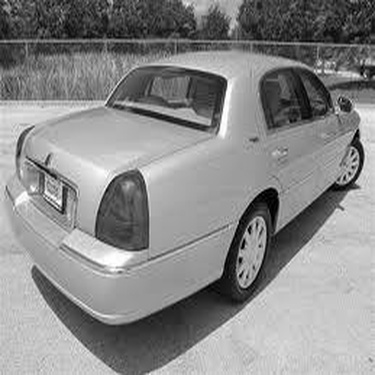car: (6, 54, 361, 317)
